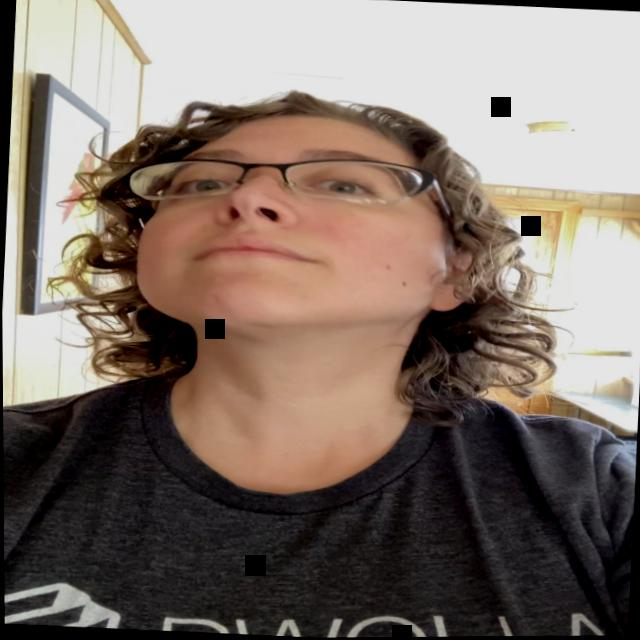NO-Mask: (125, 111, 480, 358)
